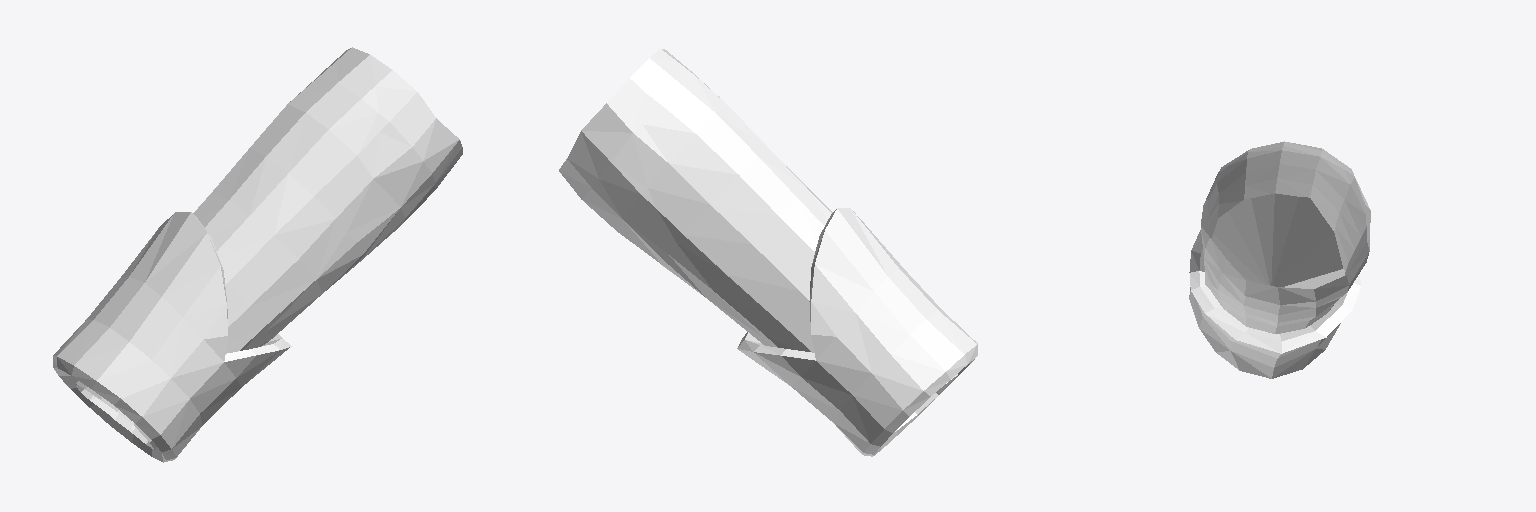
Rendered from Blade_AntebrazoDer.obj.
The picture shows the model from 3 angles: view 1: azimuth 30°, elevation 25°; view 2: azimuth 150°, elevation 25°; view 3: azimuth 270°, elevation 25°; orthographic projection.
Visible parts, largest first — view 1: Antebrazo_Der; view 2: Antebrazo_Der; view 3: Antebrazo_Der.
Part boxes in pixels (bbox=[...]): Antebrazo_Der: bbox=[53, 47, 462, 462]; Antebrazo_Der: bbox=[559, 49, 977, 456]; Antebrazo_Der: bbox=[1189, 141, 1370, 378].
Bounding box in the file's own units: 1.23 × 1.04 × 0.5022.